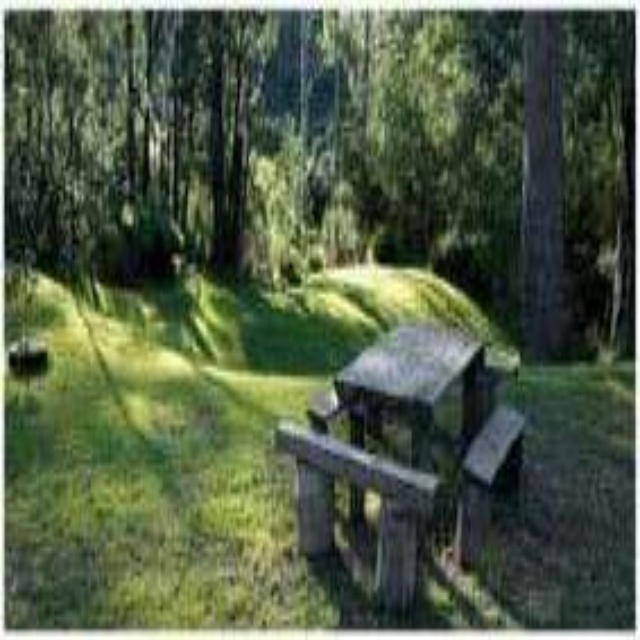obstacle: (269, 322, 543, 601)
